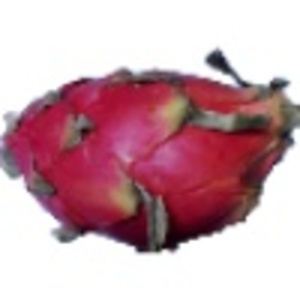pitaia: (1, 49, 300, 256)
